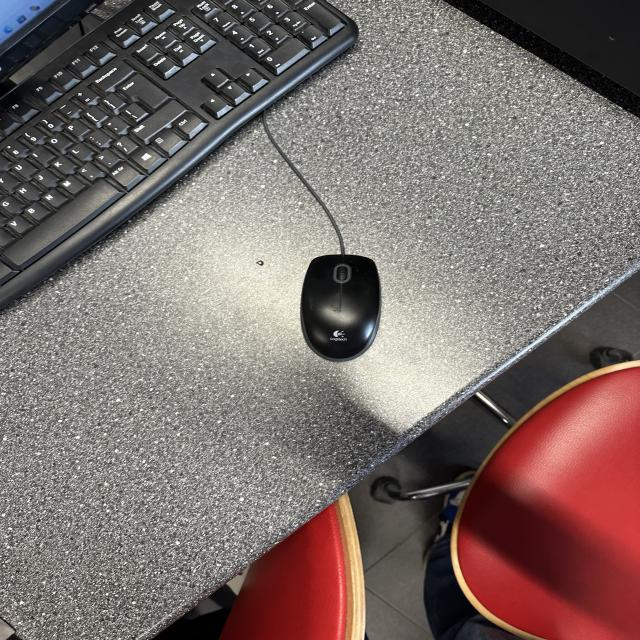mysz: (298, 251, 383, 359)
